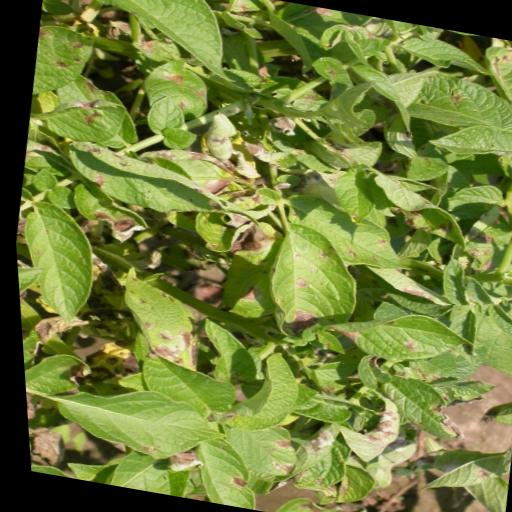Late Blight: (53, 136, 269, 232), (40, 373, 226, 471), (251, 219, 368, 347), (101, 264, 210, 370), (124, 140, 240, 210), (25, 18, 103, 110), (324, 381, 404, 468), (59, 177, 151, 248), (272, 420, 352, 498), (34, 90, 129, 150), (133, 52, 214, 122)
